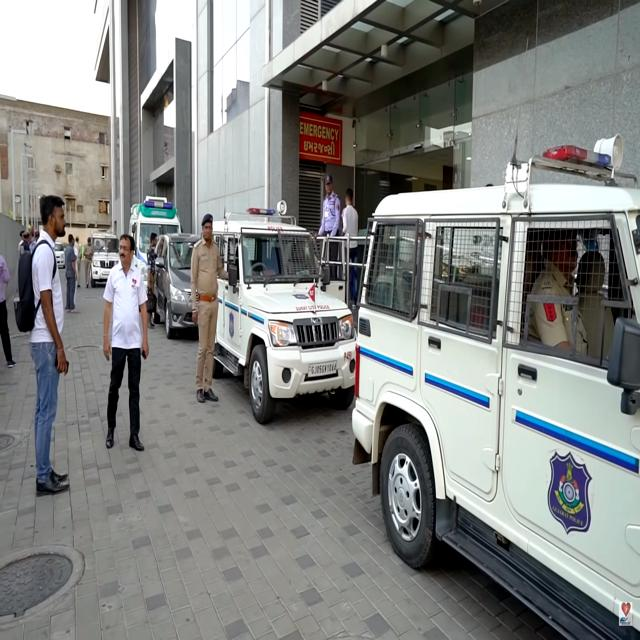emergency-vehicles: (344, 140, 640, 640), (193, 194, 354, 432), (122, 187, 184, 261)
